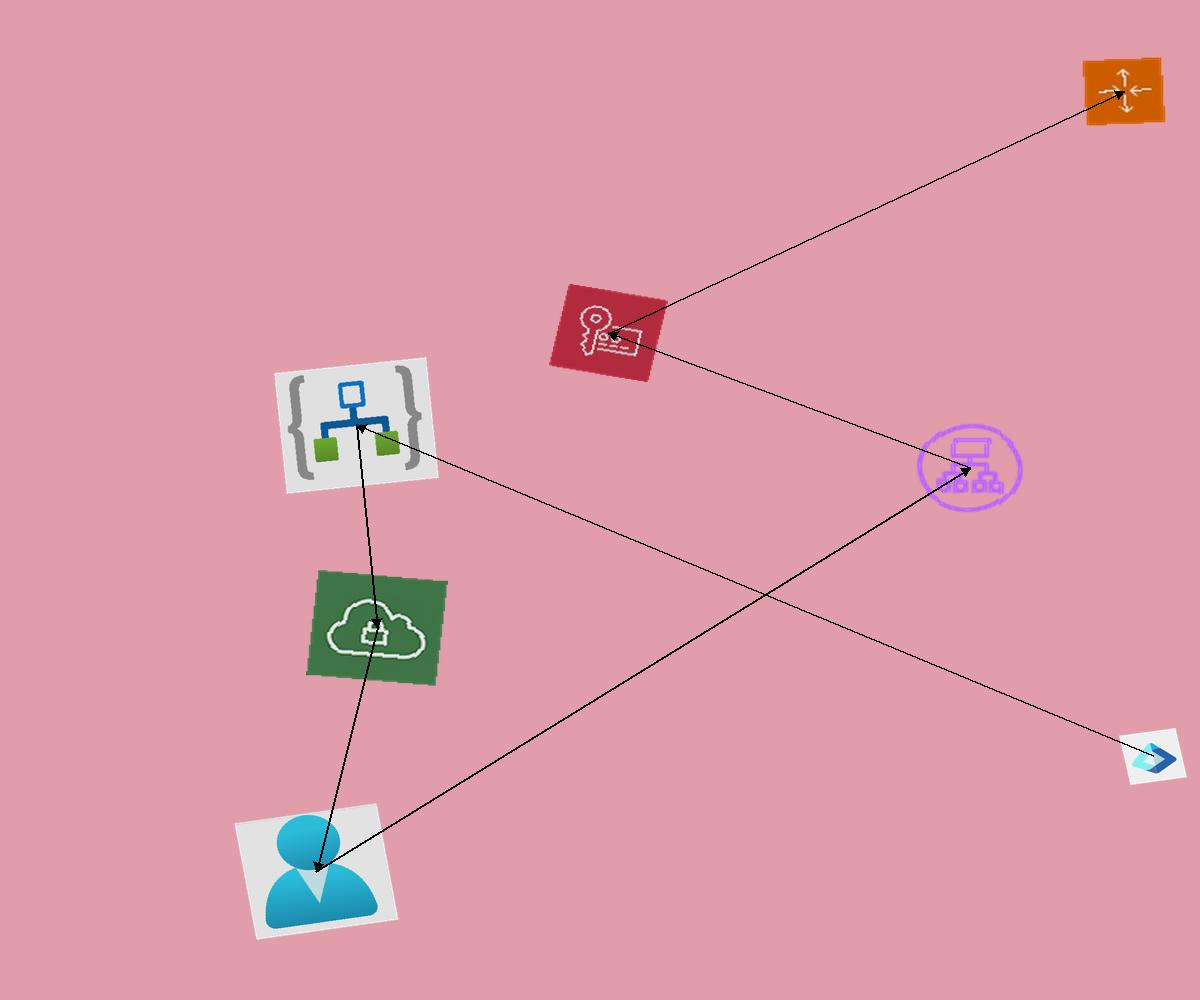AWS-Key-Management-Service: (548, 283, 669, 383)
AWS-Private_vpc: (306, 569, 448, 687)
AWS-Res_Elastic-Load-Balancing_Application-Load-Balancer: (910, 418, 1030, 518)
AWS-Scaling-group: (1081, 56, 1167, 127)
Azure_integration-204-Logic-Apps: (274, 357, 439, 494)
Azure_microsoft_entra: (1119, 728, 1187, 785)
Azure_users: (234, 803, 399, 940)
